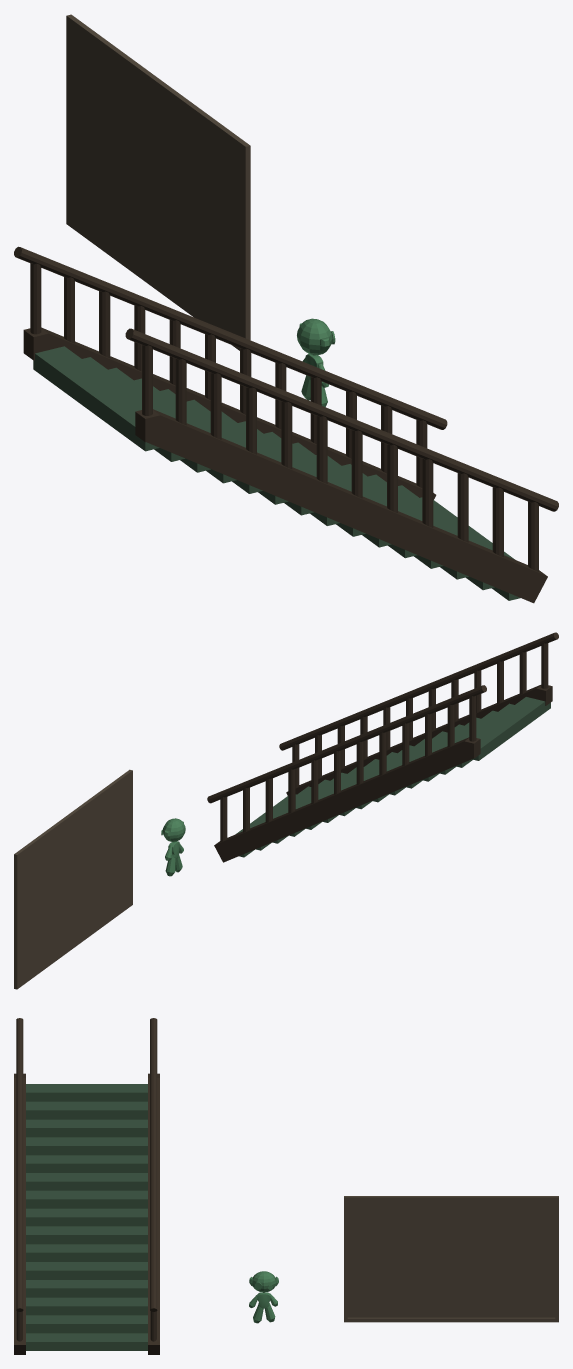
Rendered from BungalowAssets_UVFixed.fbx.
3 renders of one model, top to bottom at view 1: azimuth 30°, elevation 25°; view 2: azimuth 150°, elevation 25°; view 3: azimuth 270°, elevation 25°, orthographic. The views are drawn at different scales.
Parts seen in each view (by area): view 1: Stairs_DONE, Corkboard_DONE, VoodooDoll_DONE; view 2: Stairs_DONE, Corkboard_DONE, VoodooDoll_DONE; view 3: Stairs_DONE, Corkboard_DONE, VoodooDoll_DONE.
Boxes of the visible parts, x1,y1,x2,y2 form: Stairs_DONE: (14,246,558,603); Corkboard_DONE: (66,14,250,350); VoodooDoll_DONE: (297,318,335,406); Stairs_DONE: (207,632,558,862); Corkboard_DONE: (14,769,132,989); VoodooDoll_DONE: (161,818,185,876); Stairs_DONE: (14,1018,159,1354); Corkboard_DONE: (344,1196,558,1322); VoodooDoll_DONE: (249,1271,278,1323).
Bounding box in the file's own units: 16.42 × 13.41 × 30.01.
